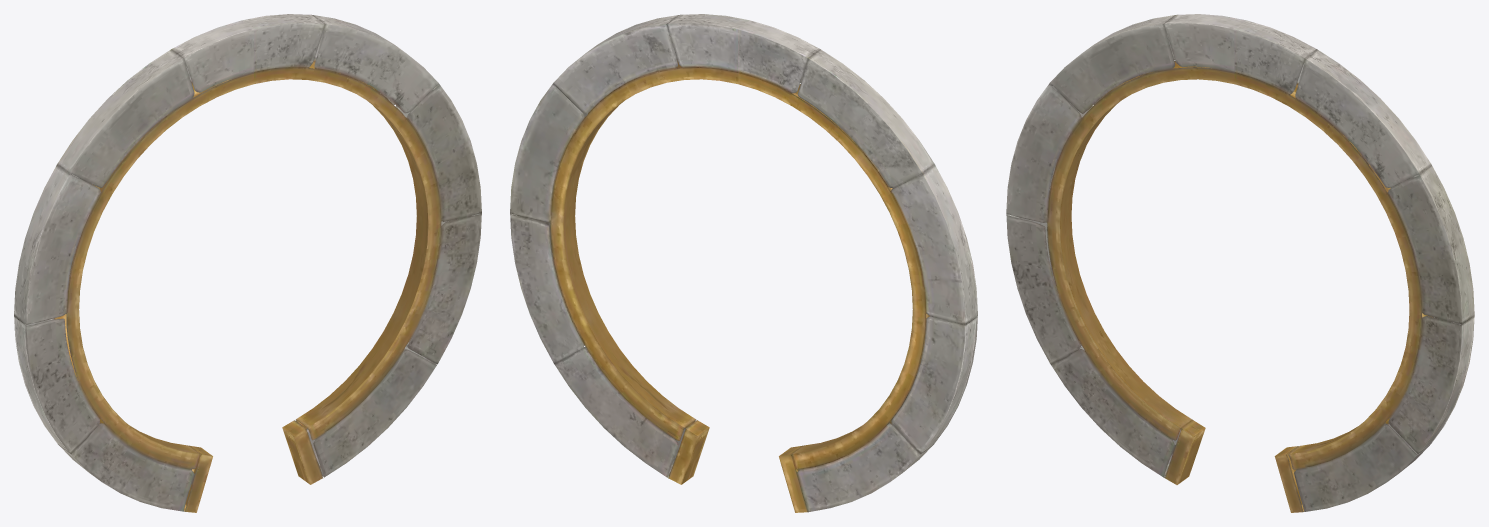
3 renders of one model, left to right at view 1: azimuth 30°, elevation 25°; view 2: azimuth 150°, elevation 25°; view 3: azimuth 330°, elevation 25°, orthographic.
Parts seen in each view (by area): view 1: SM_Orb_Dispenser_04_LOD0; view 2: SM_Orb_Dispenser_04_LOD0; view 3: SM_Orb_Dispenser_04_LOD0.
Part boxes in pixels (<box>): SM_Orb_Dispenser_04_LOD0: <box>14,14,481,512</box>; SM_Orb_Dispenser_04_LOD0: <box>510,14,977,512</box>; SM_Orb_Dispenser_04_LOD0: <box>1006,14,1474,512</box>.
Bounding box in the file's own units: 1.21 × 1.2 × 0.0574.
Materials: 1 (1 with a texture image).
